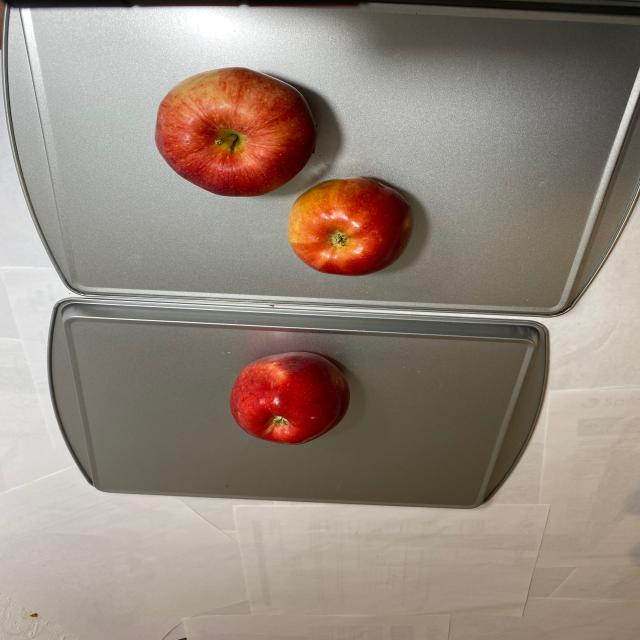Apple: (152, 66, 414, 275), (231, 348, 350, 445)
